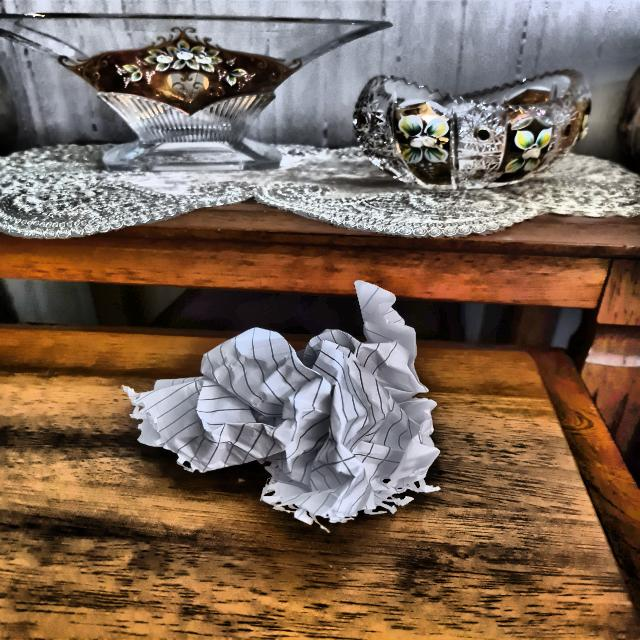Paper: (119, 285, 443, 521)
